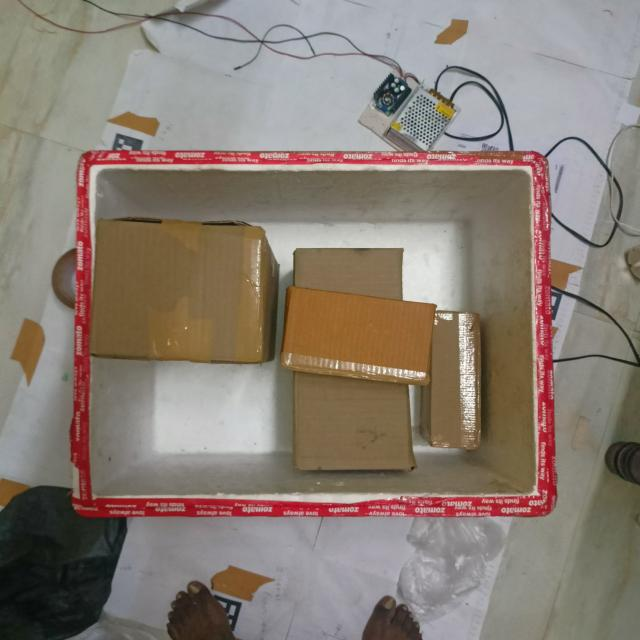box: (95, 225, 256, 370), (287, 294, 431, 388)
